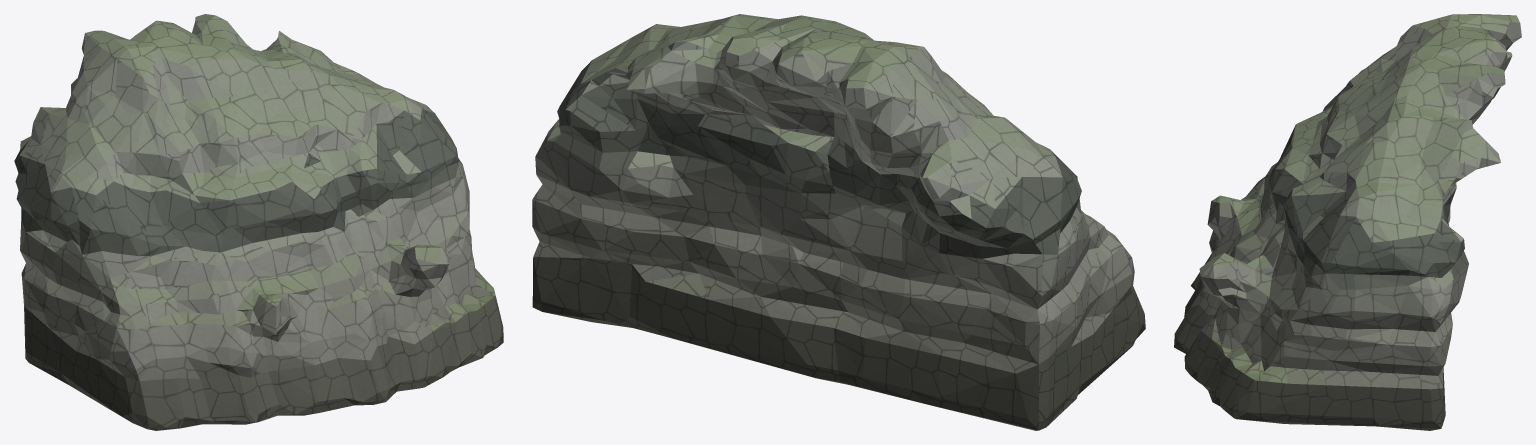
File: cliff_low_b.glb
The picture shows the model from 3 angles, left to right: view 1: azimuth 30°, elevation 25°; view 2: azimuth 150°, elevation 25°; view 3: azimuth 270°, elevation 25°; orthographic projection. The views are drawn at different scales.
Visible parts, largest first — view 1: cliff_low_b.001; view 2: cliff_low_b.001; view 3: cliff_low_b.001.
Part boxes in pixels (x1,y1,x2,y2): cliff_low_b.001: [14, 14, 503, 430]; cliff_low_b.001: [532, 14, 1145, 430]; cliff_low_b.001: [1174, 14, 1521, 430].
Size of what is drawn, in the model's own units: 10.24 by 6.85 by 7.68.
2 materials, 2 textured.
